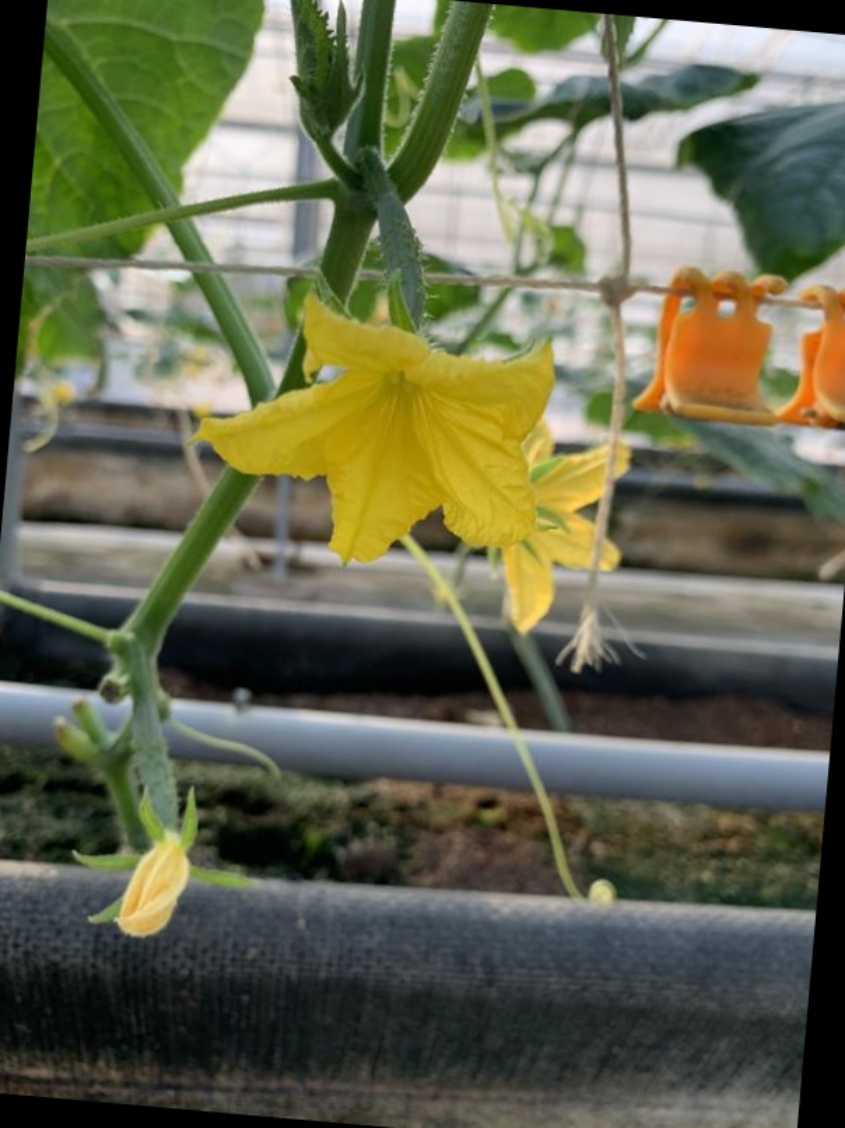flowering: (196, 167, 576, 565)
